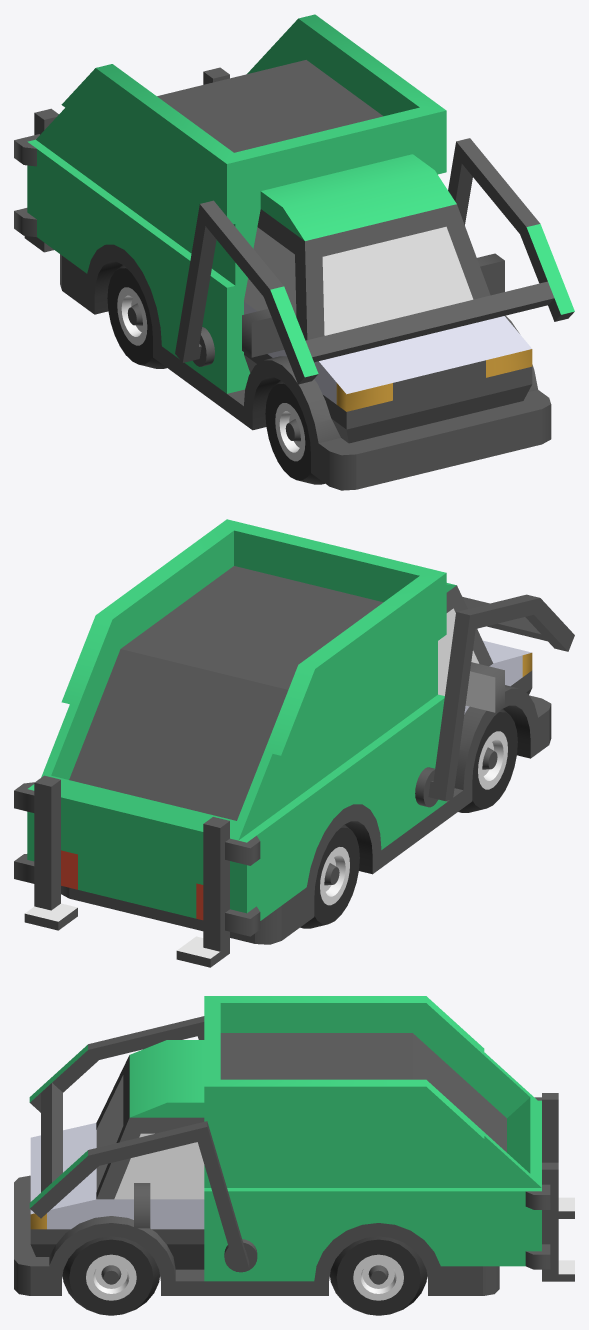
Rendered from betterGarbageTruck.glb.
3 views of the same model, one above another, from view 1: azimuth 30°, elevation 25°; view 2: azimuth 150°, elevation 25°; view 3: azimuth 270°, elevation 25° (orthographic). The views are drawn at different scales.
Visible parts, largest first — view 1: body, arm, wheel_frontLeft, wheel_backLeft; view 2: body, arm, wheel_backLeft, wheel_frontLeft; view 3: body, arm, wheel_backRight, wheel_frontRight.
Part boxes in pixels (<box>): body: <box>14,14,551,490</box>; arm: <box>175,138,574,384</box>; wheel_frontLeft: <box>265,380,324,484</box>; wheel_backLeft: <box>107,265,166,368</box>; body: <box>14,519,551,967</box>; arm: <box>415,594,574,807</box>; wheel_backLeft: <box>300,824,359,928</box>; wheel_frontLeft: <box>458,709,517,812</box>; body: <box>14,996,574,1295</box>; arm: <box>29,1016,257,1272</box>; wheel_backRight: <box>330,1236,427,1315</box>; wheel_frontRight: <box>62,1236,159,1315</box>.
Size of the model in its own units: 4.8 by 4.8 by 10.2.
